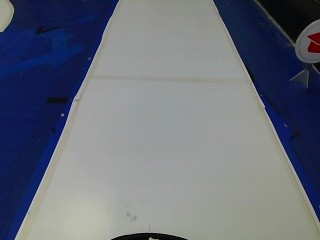school: (289, 20, 318, 67)
